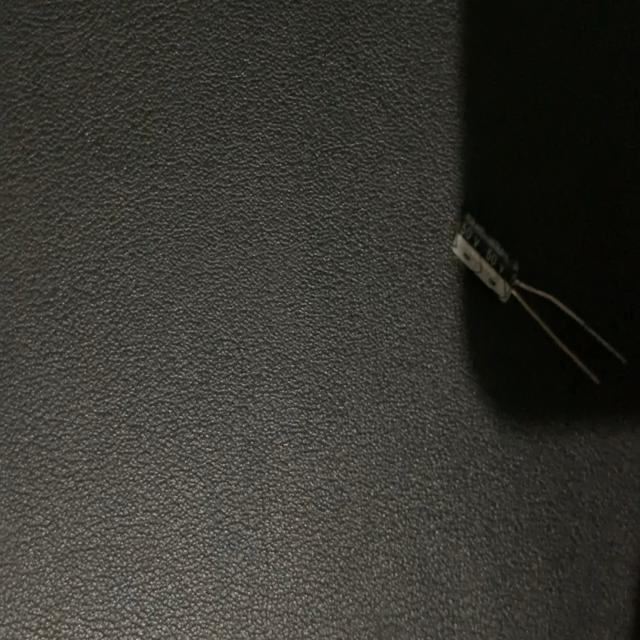capacitor: (449, 200, 627, 398)
